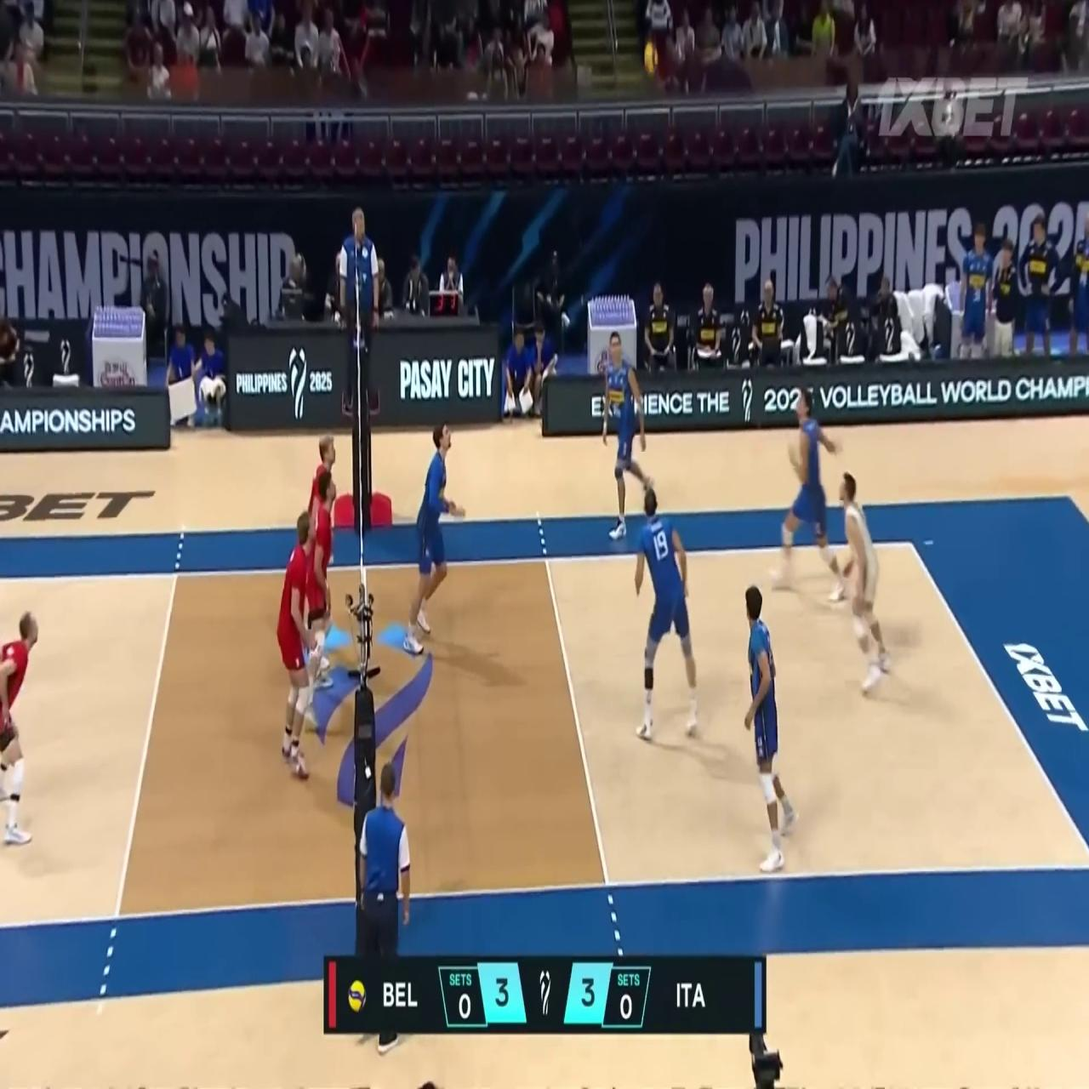ball: (644, 43, 660, 76)
